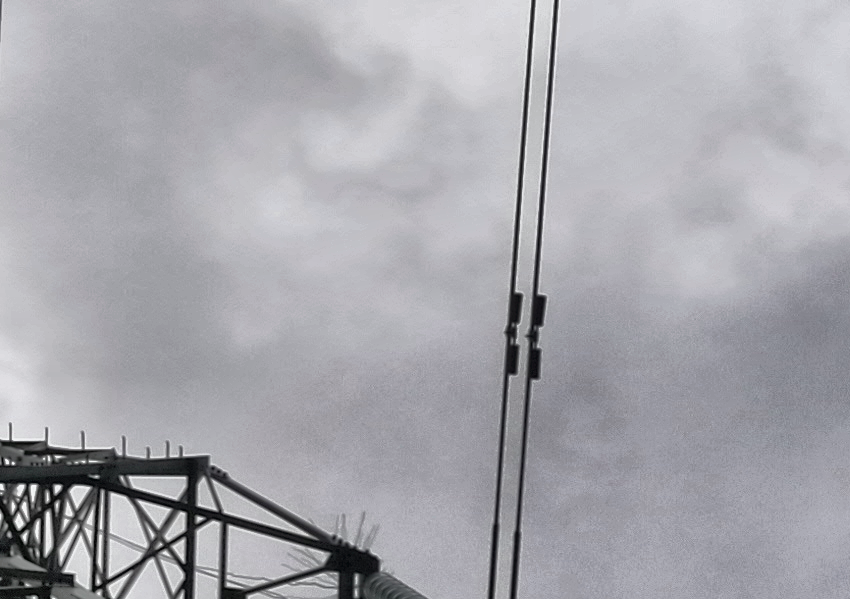damper: (524, 291, 550, 381), (502, 287, 525, 379)
